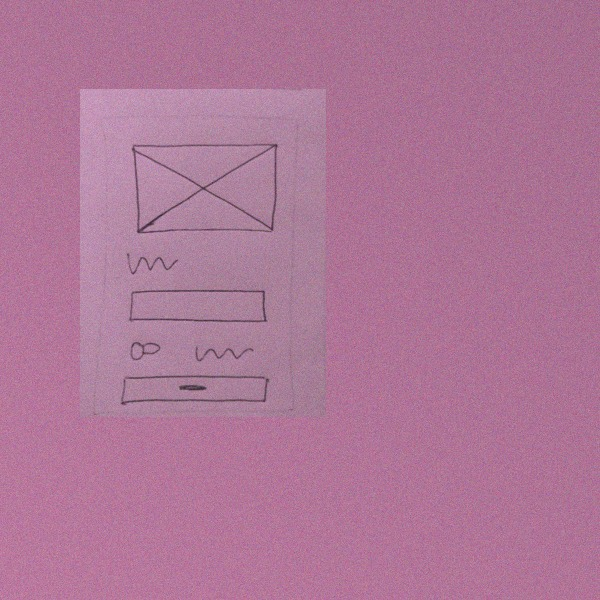button: (117, 372, 271, 408)
image: (127, 139, 282, 242)
switch: (126, 339, 164, 364)
text: (187, 340, 254, 368), (123, 251, 182, 282)
text_input: (124, 286, 270, 329)
